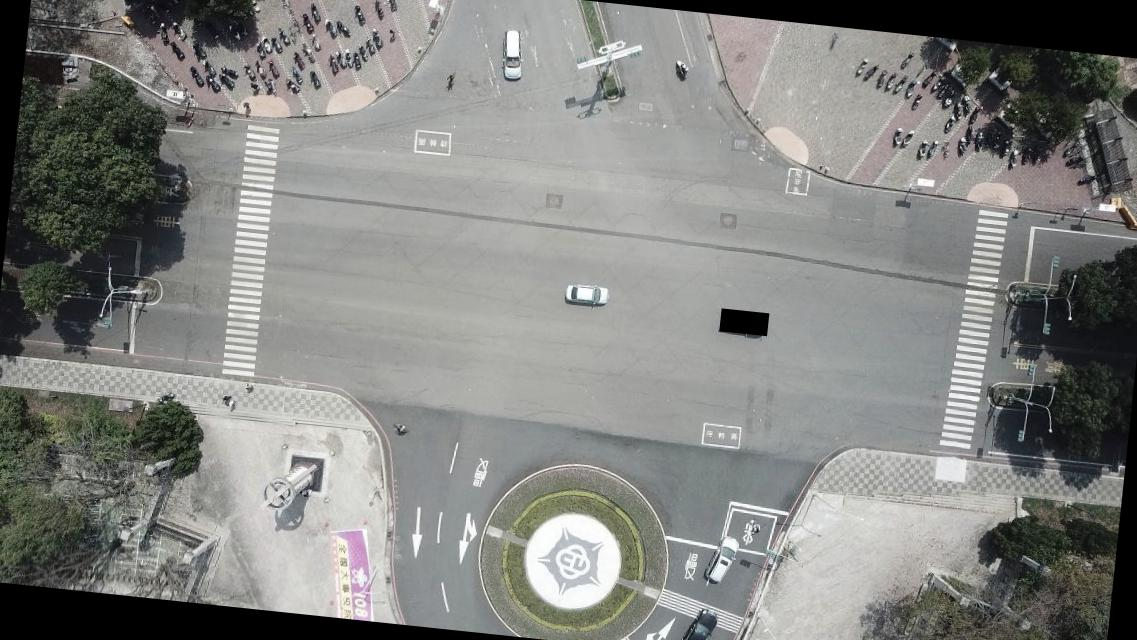vehicle: (702, 531, 741, 586), (670, 604, 720, 639), (497, 28, 528, 82), (563, 280, 612, 308)
